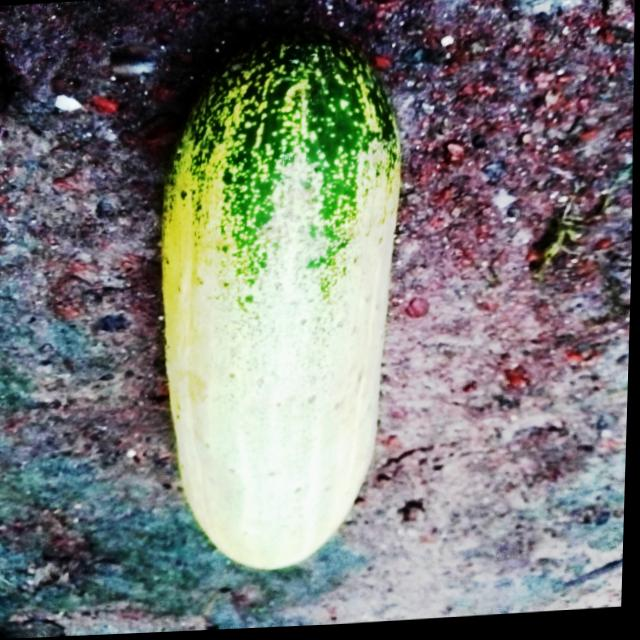Fresh-Cucumber: (149, 22, 416, 580)
